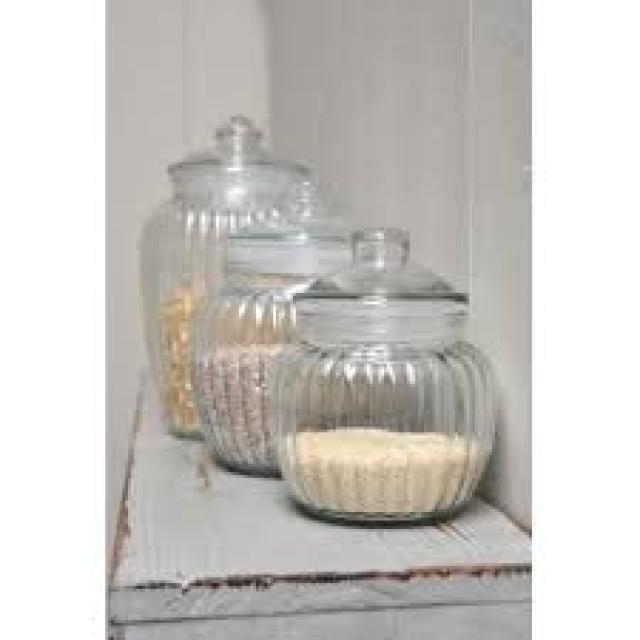glass: (282, 225, 498, 521), (145, 111, 319, 432), (188, 219, 344, 475)
